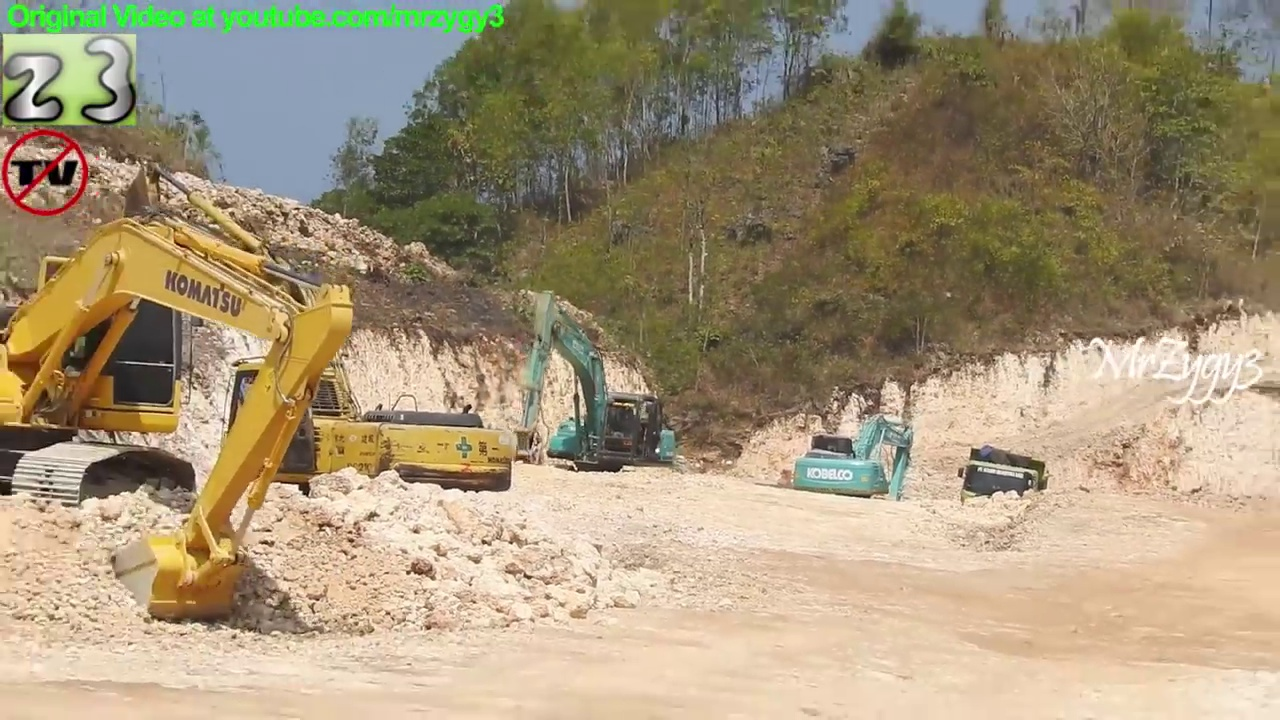excavator: (1, 147, 361, 628), (79, 158, 522, 537), (510, 282, 682, 488), (788, 410, 917, 521)
truck: (955, 443, 1055, 533)
